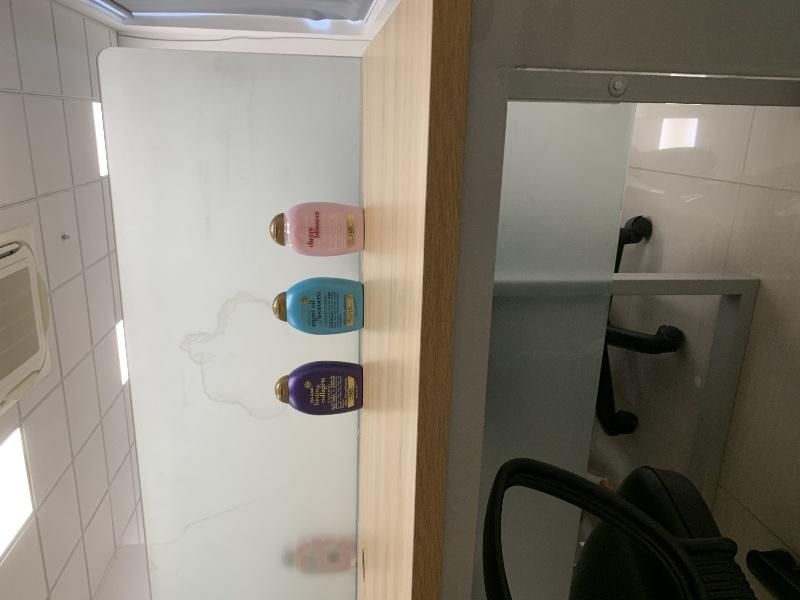ArganOilOfMorocco_Conditioner: (273, 277, 364, 335)
BiotinCollagen_Shampoo: (275, 361, 363, 415)
CherryBlossom_Conditioner: (269, 202, 365, 257)
